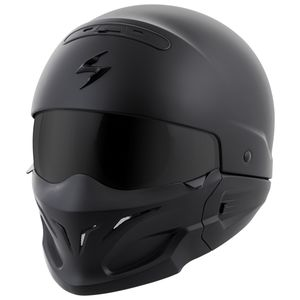with_helmet: (23, 1, 280, 296)
